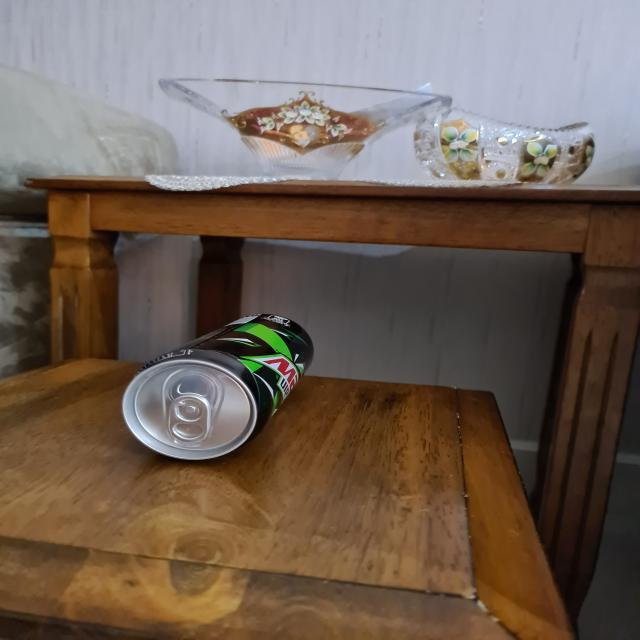can: (119, 311, 325, 469)
